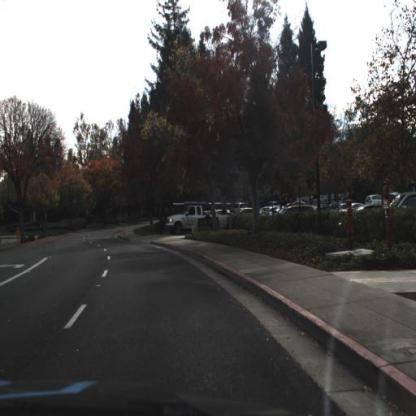car: (166, 204, 231, 238)
